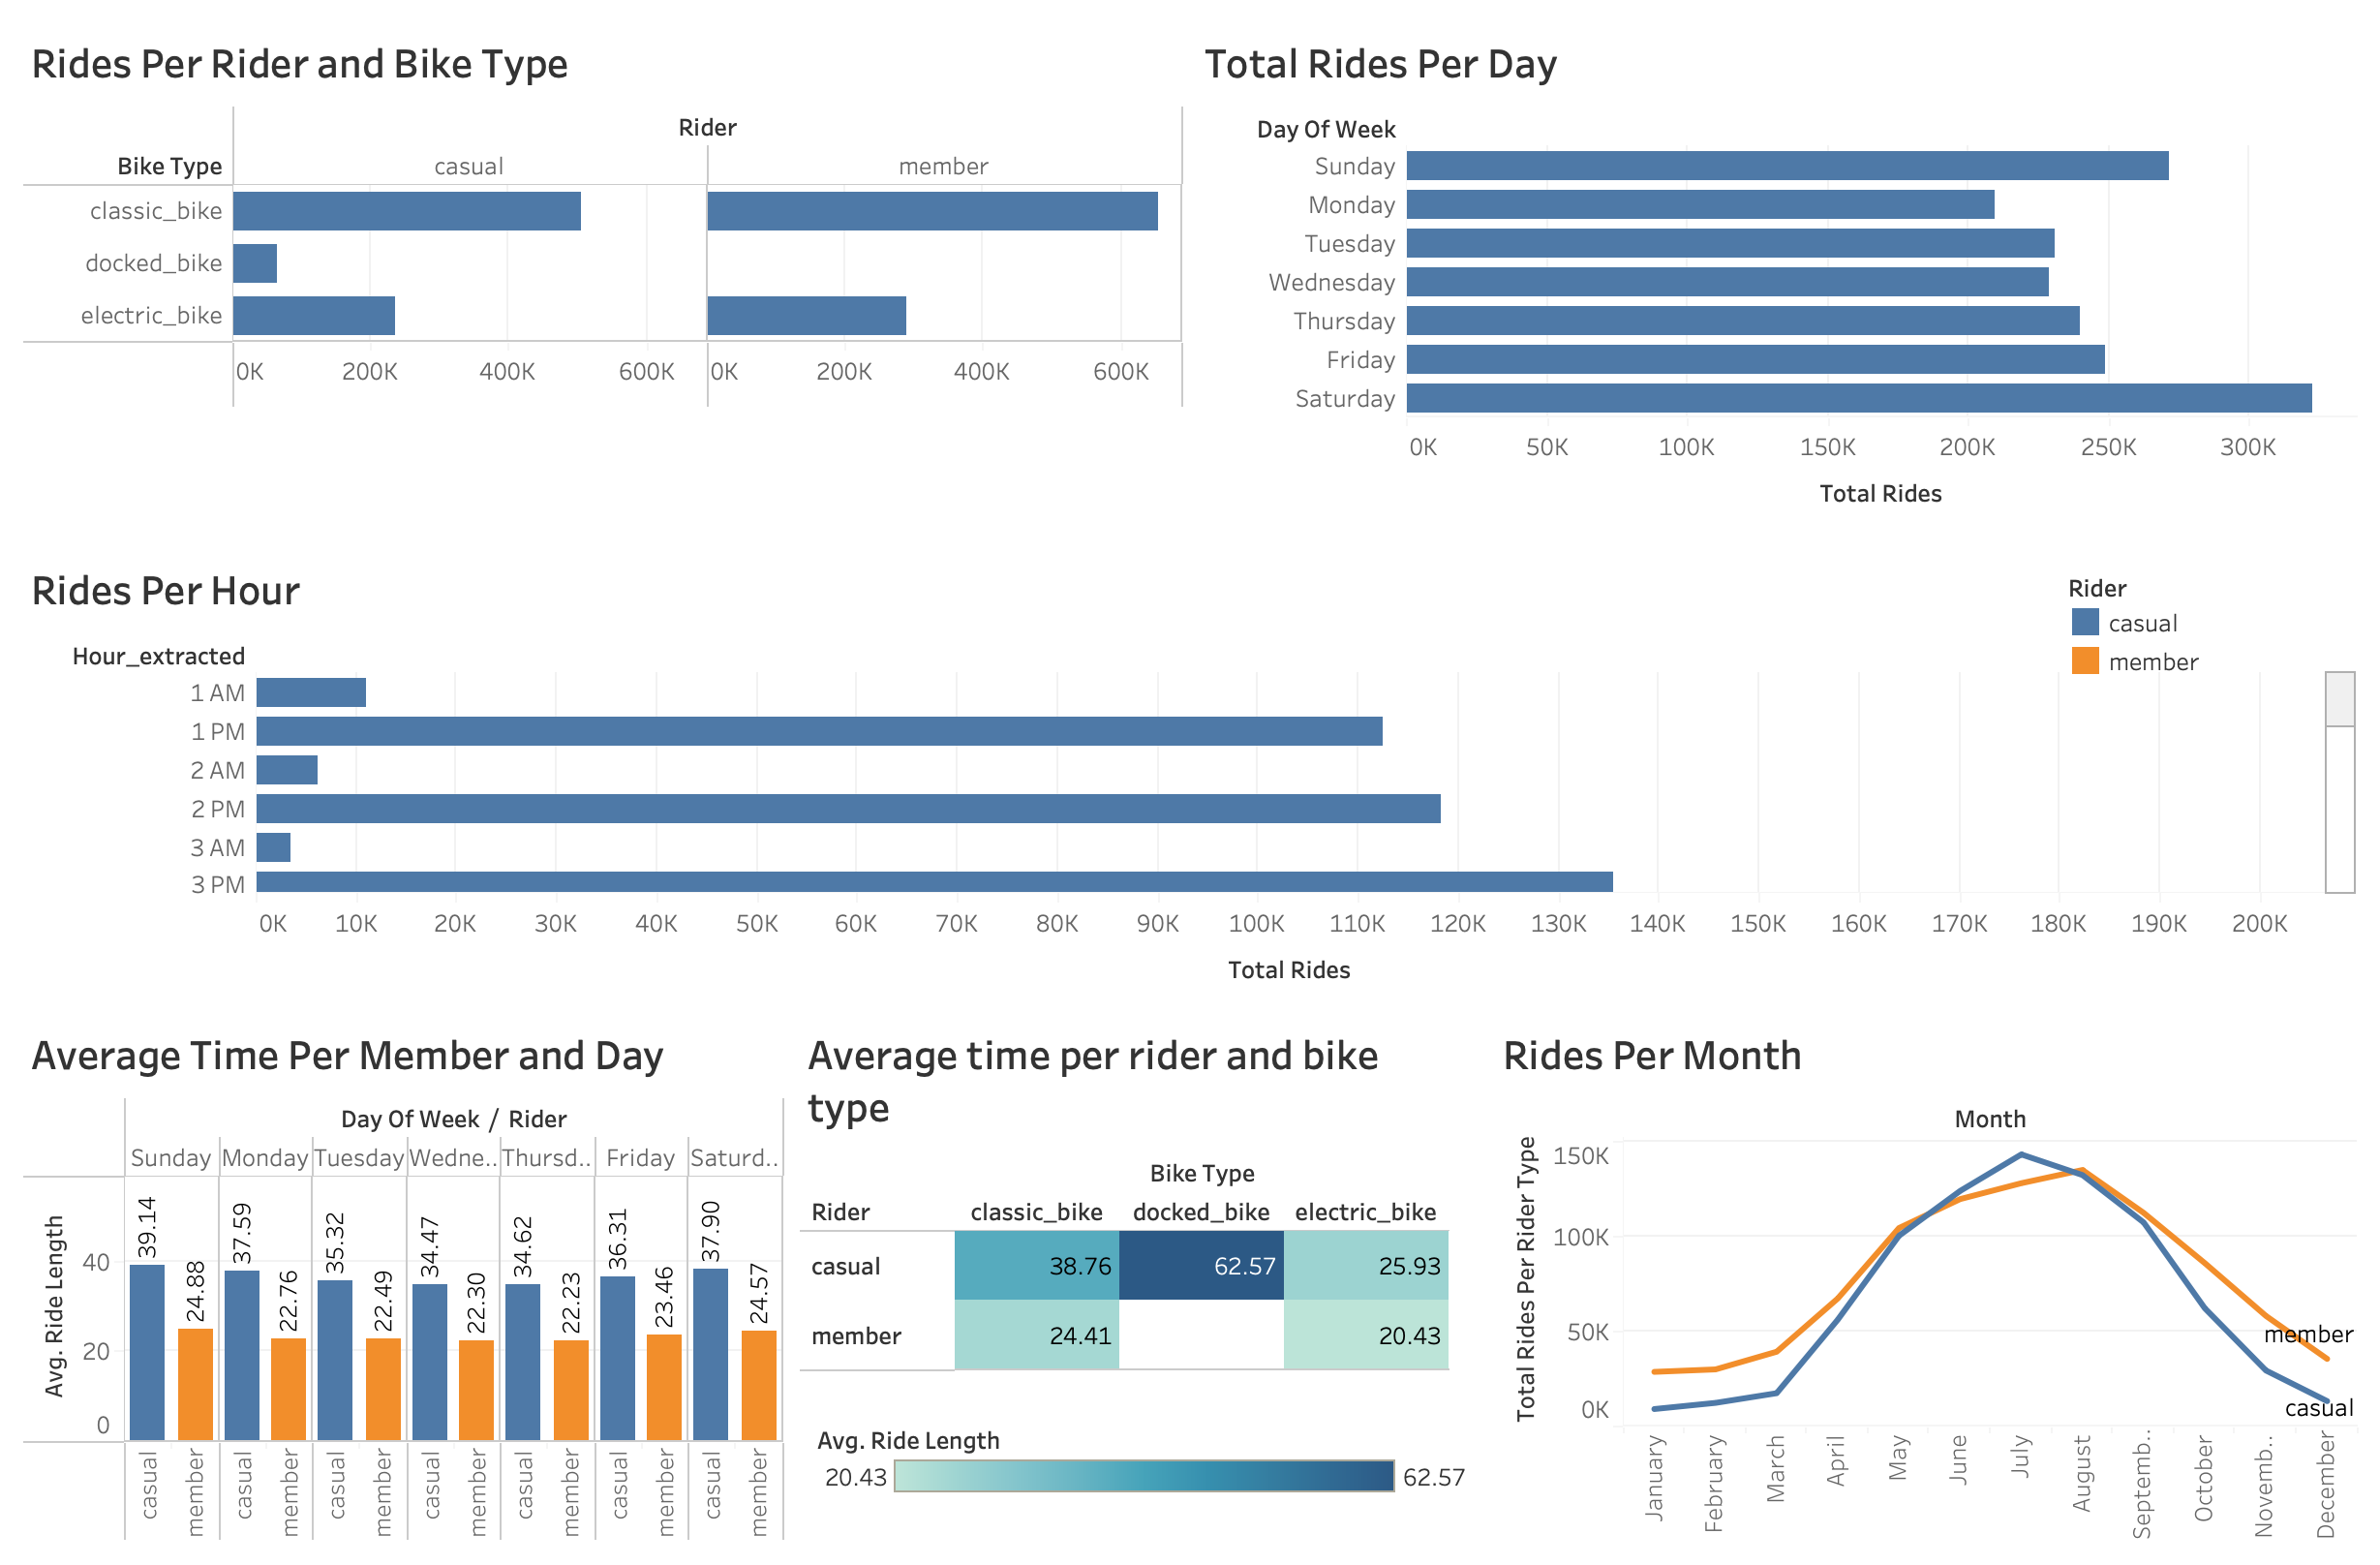

This screenshot's page, from the dashboard's own definition file:
{"tool":"tableau","page":{"name":"Dashboard 1","canvas":[1000,1000],"units":"permille","ordinal":0},"visuals":[{"type":"worksheet","title":"Rides Per Rider and Bike Type","mark":"Automatic","rows":["bike_type"],"cols":["rider","ride_id"],"box":[6.5,11.8,493.5,347.6]},{"type":"worksheet","title":"Total Rides Per Day","mark":"Automatic","rows":["day_of_week"],"cols":["ride_id"],"box":[500,11.8,493.5,347.6]},{"type":"worksheet","title":"Rides Per Hour","mark":"Automatic","rows":["Calculation_5450551885257007107"],"cols":["ride_id"],"box":[6.5,359.4,987,283.6]},{"type":"legend","title":"Avg time per member and day ","param":"[federated.04fabbv1pmfzne1er7lyu05rbr1t].[none:rider:nk]","box":[868.6,362.6,116.5,71.8]},{"type":"worksheet","title":"Avg time per member and day ","mark":"Bar","rows":["ride_length"],"cols":["day_of_week","rider"],"box":[6.5,643,326.2,345.3]},{"type":"worksheet","title":"Average time per rider and bike type","mark":"Square","rows":["rider"],"cols":["bike_type"],"box":[332.7,643,292.1,345.3]},{"type":"worksheet","title":"Rides Per Month","mark":"Line","rows":["ride_id"],"cols":["month"],"box":[624.8,643,368.7,345.3]},{"type":"legend","title":"Average time per rider and bike type","param":"[federated.04fabbv1pmfzne1er7lyu05rbr1t].[avg:ride_length:qk]","box":[343.6,904.7,276.2,56.9]}]}

Visuals, with their boxes on the dashboard's canvas, which has no fixed pixel size, in thousandths of its width and height (x1, y1, x2, y2). These are canvas units, not pixel positions in the 2380x1565 screenshot, which may show the page scaled, cropped or inside an application window:
"Rides Per Rider and Bike Type" worksheet: <region>6, 12, 500, 359</region>
"Total Rides Per Day" worksheet: <region>500, 12, 994, 359</region>
"Rides Per Hour" worksheet: <region>6, 359, 994, 643</region>
"Avg time per member and day " legend: <region>869, 363, 985, 434</region>
"Avg time per member and day " worksheet (Bar marks): <region>6, 643, 333, 988</region>
"Average time per rider and bike type" worksheet (Square marks): <region>333, 643, 625, 988</region>
"Rides Per Month" worksheet (Line marks): <region>625, 643, 994, 988</region>
"Average time per rider and bike type" legend: <region>344, 905, 620, 962</region>
